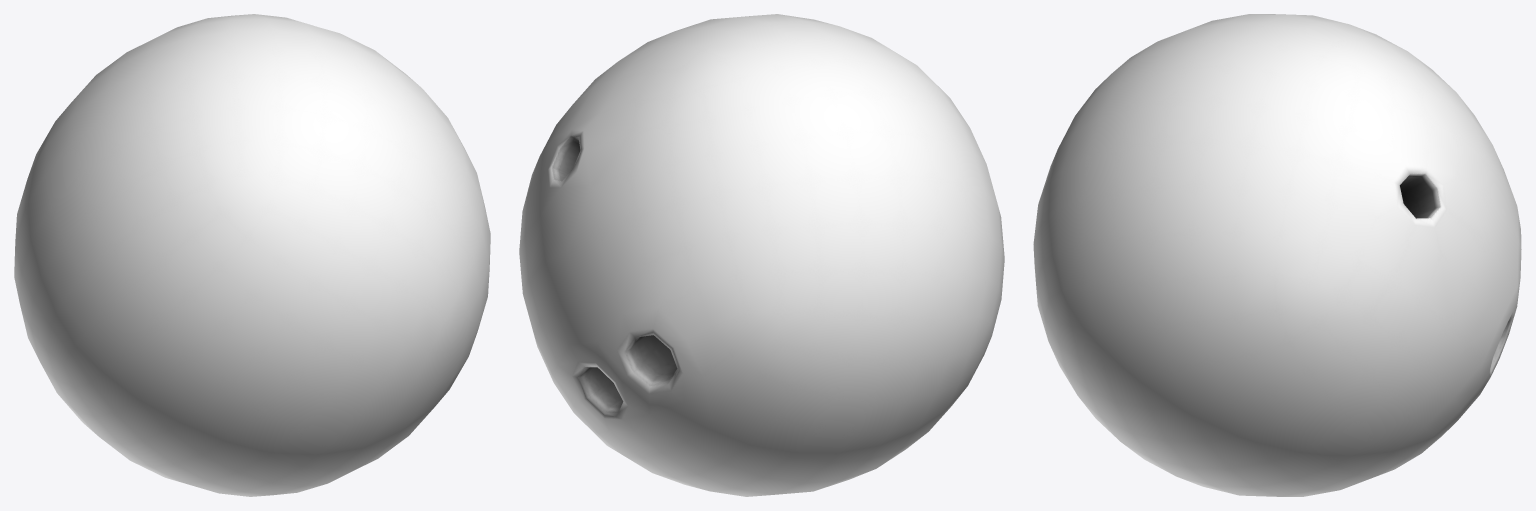
File: Bull.fbx
3 renders of one model, left to right at view 1: azimuth 30°, elevation 25°; view 2: azimuth 150°, elevation 25°; view 3: azimuth 270°, elevation 25°, orthographic.
Parts seen in each view (by area): view 1: ball_n_pins; view 2: ball_n_pins; view 3: ball_n_pins.
Part boxes in pixels (x1,y1,x2,y2): ball_n_pins: (14,14,490,496); ball_n_pins: (519,14,1004,496); ball_n_pins: (1033,14,1521,496).
Bounding box in the file's own units: 1148 × 1142 × 1145.
